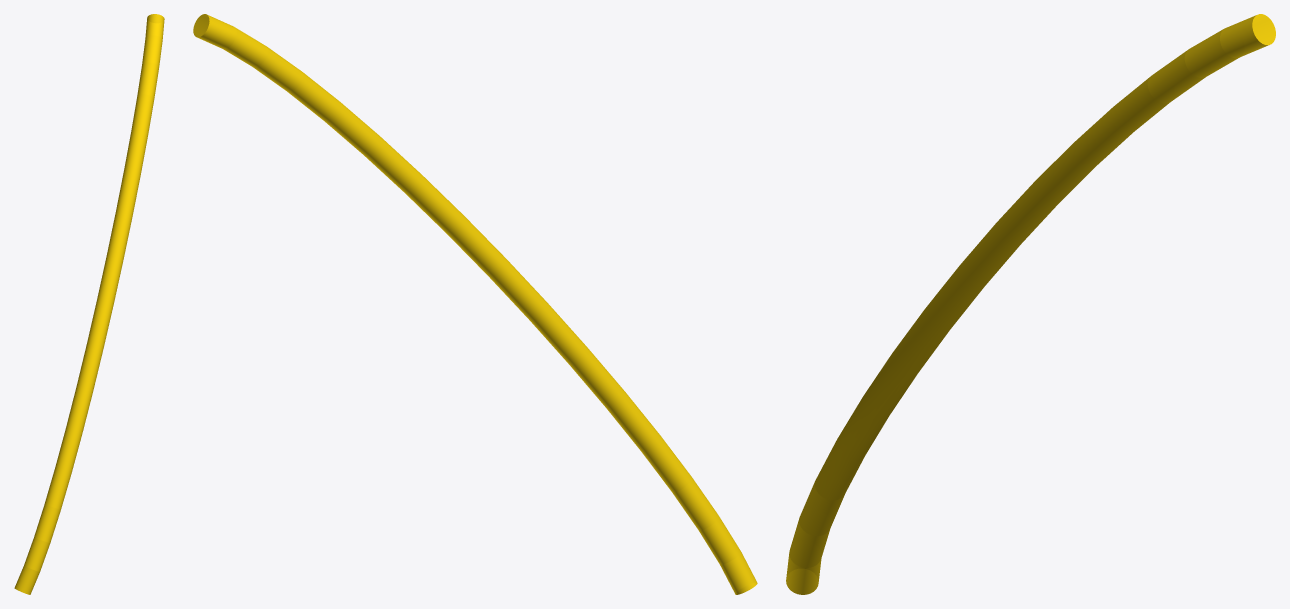
Rendered from Event_420107950_track_32.fbx.
3 views of the same model, side by side, from view 1: azimuth 30°, elevation 25°; view 2: azimuth 150°, elevation 25°; view 3: azimuth 270°, elevation 25° (orthographic). The views are drawn at different scales.
Parts seen in each view (by area): view 1: Model; view 2: Model; view 3: Model.
Boxes of the visible parts, box(x1,y1,x2,y2) form: Model: box(14, 14, 164, 594); Model: box(193, 14, 757, 594); Model: box(786, 14, 1275, 594).
Bounding box in the file's own units: 0.7126 × 1.09 × 0.5981.
